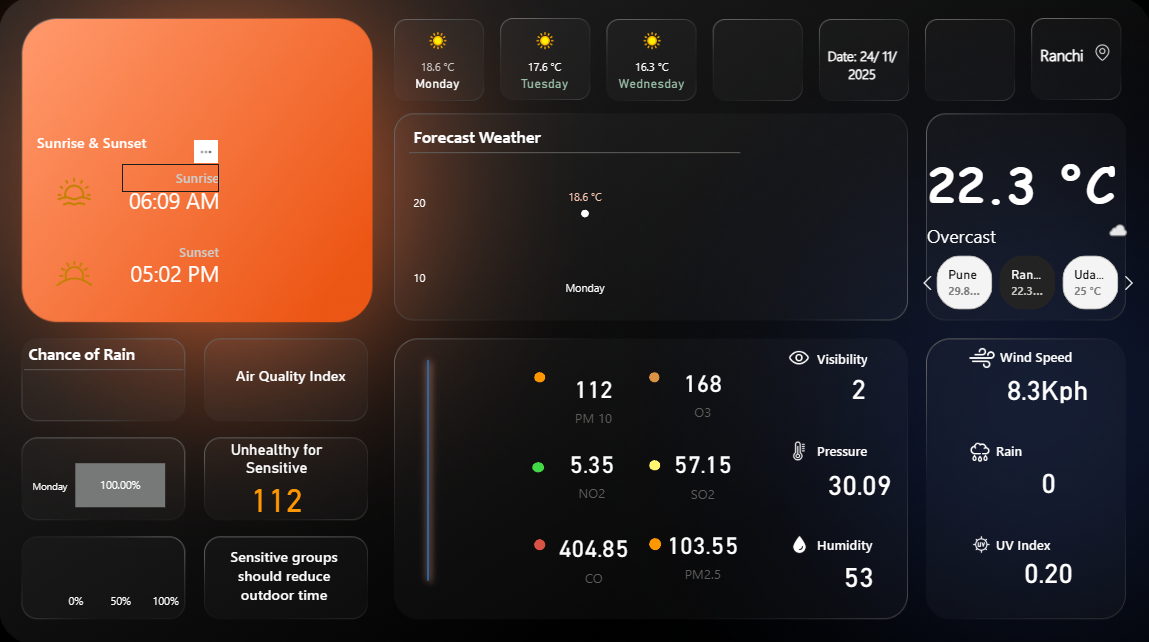

The page's visual inventory and layout, read from the dashboard file:
{"tool":"powerbi","page":{"name":"Page 1","canvas":[1280,720],"ordinal":0},"visuals":[{"type":"advancedSlicerVisual","fields":{"Values":["Location.location.name"]},"box":[1017.2,281,255,70],"z":2000},{"type":"shape","box":[1031.5,152.6,211.9,106.8],"z":3000},{"type":"shape","box":[1031.5,242.4,115.8,42.2],"z":4000},{"type":"shape","box":[1049.1,43.9,156.1,34.2],"z":5000},{"type":"image","box":[1210.1,47.2,32.5,27.7],"z":6000},{"type":"shape","box":[917.5,44,82.6,57.5],"z":7000},{"type":"cardVisual","fields":{"Data":["Min(Current.current.condition.icon)"]},"box":[1184.1,211,90.7,94.3],"z":8000},{"type":"image","box":[868.9,381.1,40,36.7],"z":9000},{"type":"shape","box":[908.9,384.4,134.4,31.1],"z":10000},{"type":"image","box":[1070,486.7,40,35.6],"z":11000},{"type":"image","box":[868.9,487.8,40,31.1],"z":12000},{"type":"image","box":[1074.4,592.2,34.4,30],"z":13000},{"type":"image","box":[1072.2,380,40,40],"z":14000},{"type":"image","box":[874.4,592.2,30,30],"z":15000},{"type":"shape","box":[1112.2,383.3,125.6,30],"z":16000},{"type":"shape","box":[908.9,486.7,134.4,31.1],"z":17000},{"type":"shape","box":[1107.8,486.7,135.6,31.1],"z":18000},{"type":"shape","box":[908.9,591.1,134.4,31.1],"z":19000},{"type":"shape","box":[1107.8,592.2,134.4,30],"z":20000},{"type":"card","fields":{"Values":["Sum(Current.current.humidity)"]},"box":[927.8,620,54.4,43.3],"z":21000},{"type":"card","fields":{"Values":["Sum(Current.current.uv)"]},"box":[1122.2,616.7,87.8,42.2],"z":22000},{"type":"card","fields":{"Values":["Sum(Current.current.pressure_in)"]},"box":[908.9,518.9,94.4,42.2],"z":23000},{"type":"card","fields":{"Values":["Sum(Current.current.vis_km)"]},"box":[917.8,412.2,74.4,42.2],"z":24000},{"type":"card","fields":{"Values":["_Measures.Wind_Speed"]},"box":[1100,412.2,130,43.3],"z":25000},{"type":"card","fields":{"Values":["Sum(Forecast_day.forecast.forecastday.day.daily_chance_of_rain)"]},"box":[1118.9,515.6,94.4,43.3],"z":26000},{"type":"lineChart","title":"Forecast Weather","fields":{"Y":["Sum(Forecast_day.forecast.forecastday.day.avgtemp_c)"],"Category":["Forecast_day.Day_Name"]},"box":[456.1,143.6,368.1,196.6],"z":27000},{"type":"advancedSlicerVisual","fields":{"Values":["Forecast_day.Day_Name"]},"box":[426.4,24.2,360,96.1],"z":28000},{"type":"shape","box":[42.3,144.8,135,30.9],"z":29000},{"type":"shape","box":[111.8,190,132.7,68.2],"z":30000},{"type":"shape","box":[110.6,271.6,133.4,68.3],"z":31000},{"type":"shape","box":[136.4,184.5,108.2,30.9],"z":32000},{"type":"shape","box":[134.5,266.4,110,30],"z":33000},{"type":"image","box":[51.8,274.5,63.6,62.7],"z":34000},{"type":"image","box":[60,190.9,47.3,48.2],"z":35000},{"type":"hundredPercentStackedBarChart","title":"Chance of Rain","fields":{"Y":["Sum(Forecast_day.forecast.forecastday.day.daily_chance_of_rain)","Current.Left_value_Rain"],"Category":["Forecast_day.Day_Name"]},"box":[27.8,384.2,176.9,302.5],"z":36000},{"type":"shape","box":[263,404,135.6,28.7],"z":37000},{"type":"card","fields":{"Values":["Sum(Current.current.air_quality.pm10)"]},"box":[607.8,404,105.9,78.1],"z":38000},{"type":"shape","box":[594.5,600.9,12.7,12.7],"z":39000},{"type":"card","fields":{"Values":["Sum(Current.current.air_quality.o3)"]},"box":[729.1,398.2,106.4,78.2],"z":40000},{"type":"card","fields":{"Values":["Sum(Current.current.air_quality.so2)"]},"box":[729.1,489.1,106.4,77.3],"z":41000},{"type":"card","fields":{"Values":["Sum(Current.current.air_quality.no2)"]},"box":[605.5,488.2,106.4,78.2],"z":42000},{"type":"card","fields":{"Values":["Sum(Current.current.air_quality.co)"]},"box":[607.3,581.8,106.4,77.3],"z":43000},{"type":"card","fields":{"Values":["Sum(Current.current.air_quality.pm2_5)"]},"box":[729.1,578.2,106.4,78.2],"z":44000},{"type":"shape","box":[722.7,513.6,12.7,11.8],"z":45000},{"type":"shape","box":[594.5,415.5,12.7,11.8],"z":46000},{"type":"shape","box":[722.7,415.5,11.8,11.8],"z":47000},{"type":"shape","box":[592.7,515.5,13.6,11.8],"z":48000},{"type":"shape","box":[722.7,600,13.6,13.6],"z":49000},{"type":"shape","box":[456.1,393.2,42.2,263],"z":50000},{"type":"card","fields":{"Values":["Sum(Current.current.air_quality.pm10)"]},"box":[245.1,492,125.7,108.6],"z":51000},{"type":"shape","box":[236.1,609.6,162.5,63.7],"z":52000}]}

Visuals, with their boxes in screenshot pixels (x1, y1, x2, y2), scaled from the page's 1280x720 canvas onto the 1149x642 screenshot:
advancedSlicerVisual - Location.location.name: detection(913, 251, 1142, 313)
shape: detection(926, 136, 1116, 231)
shape: detection(926, 216, 1030, 254)
shape: detection(942, 39, 1082, 70)
image: detection(1086, 42, 1115, 67)
shape: detection(824, 39, 898, 91)
cardVisual - Min(Current.current.condition.icon): detection(1063, 188, 1144, 272)
image: detection(780, 340, 816, 373)
shape: detection(816, 343, 937, 370)
image: detection(960, 434, 996, 466)
image: detection(780, 435, 816, 463)
image: detection(964, 528, 995, 555)
image: detection(962, 339, 998, 374)
image: detection(785, 528, 812, 555)
shape: detection(998, 342, 1111, 369)
shape: detection(816, 434, 937, 462)
shape: detection(994, 434, 1116, 462)
shape: detection(816, 527, 937, 555)
shape: detection(994, 528, 1115, 555)
card - Sum(Current.current.humidity): detection(833, 553, 882, 591)
card - Sum(Current.current.uv): detection(1007, 550, 1086, 588)
card - Sum(Current.current.pressure_in): detection(816, 463, 901, 500)
card - Sum(Current.current.vis_km): detection(824, 368, 891, 405)
card - _Measures.Wind_Speed: detection(987, 368, 1104, 406)
card - Sum(Forecast_day.forecast.forecastday.day.daily_chance_of_rain): detection(1004, 460, 1089, 498)
"Forecast Weather" lineChart: detection(409, 128, 740, 303)
advancedSlicerVisual - Forecast_day.Day_Name: detection(383, 22, 706, 107)
shape: detection(38, 129, 159, 157)
shape: detection(100, 169, 219, 230)
shape: detection(99, 242, 219, 303)
shape: detection(122, 165, 220, 192)
shape: detection(121, 238, 219, 264)
image: detection(46, 245, 104, 301)
image: detection(54, 170, 96, 213)
"Chance of Rain" hundredPercentStackedBarChart: detection(25, 343, 184, 612)
shape: detection(236, 360, 358, 386)
card - Sum(Current.current.air_quality.pm10): detection(546, 360, 641, 430)
shape: detection(534, 536, 545, 547)
card - Sum(Current.current.air_quality.o3): detection(654, 355, 750, 425)
card - Sum(Current.current.air_quality.so2): detection(654, 436, 750, 505)
card - Sum(Current.current.air_quality.no2): detection(544, 435, 639, 505)
card - Sum(Current.current.air_quality.co): detection(545, 519, 641, 588)
card - Sum(Current.current.air_quality.pm2_5): detection(654, 516, 750, 585)
shape: detection(649, 458, 660, 468)
shape: detection(534, 370, 545, 381)
shape: detection(649, 370, 659, 381)
shape: detection(532, 460, 544, 470)
shape: detection(649, 535, 661, 547)
shape: detection(409, 351, 447, 585)
card - Sum(Current.current.air_quality.pm10): detection(220, 439, 333, 536)
shape: detection(212, 544, 358, 600)
